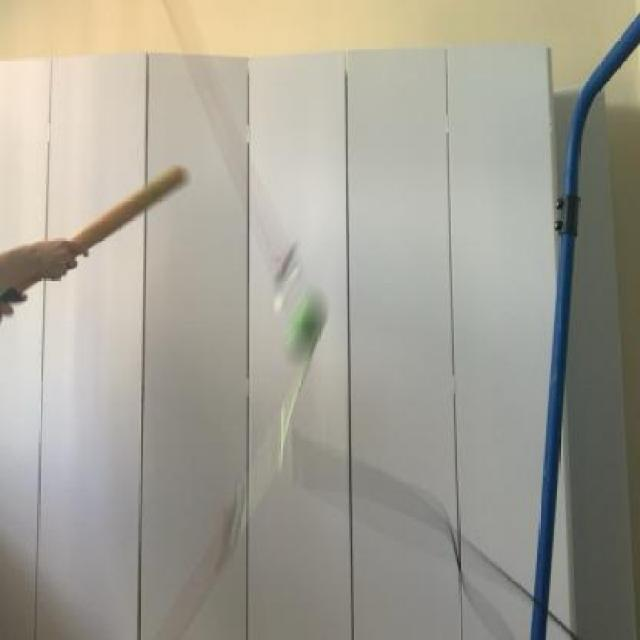baseball: (272, 284, 336, 376)
